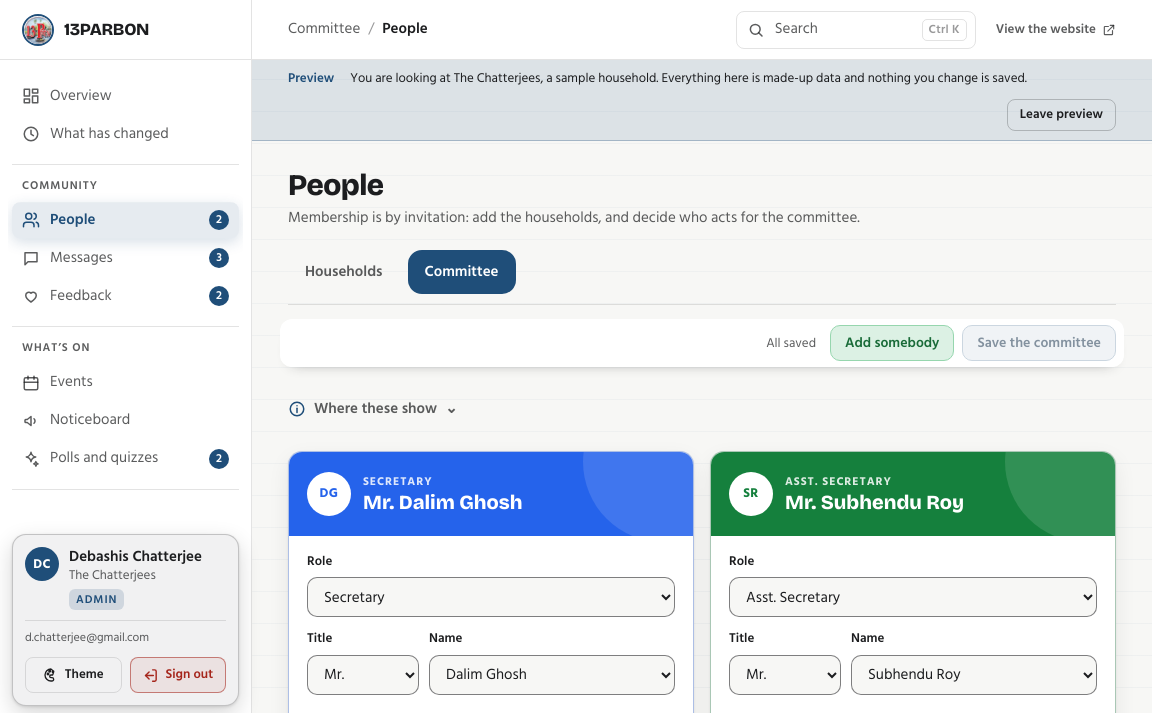
Test: the committee, on People › offers the roles and the households’ grown-ups to choose from
Select "Rina Sen" in the dropdown named "Name 1": (552, 675) [429, 655, 675, 695]
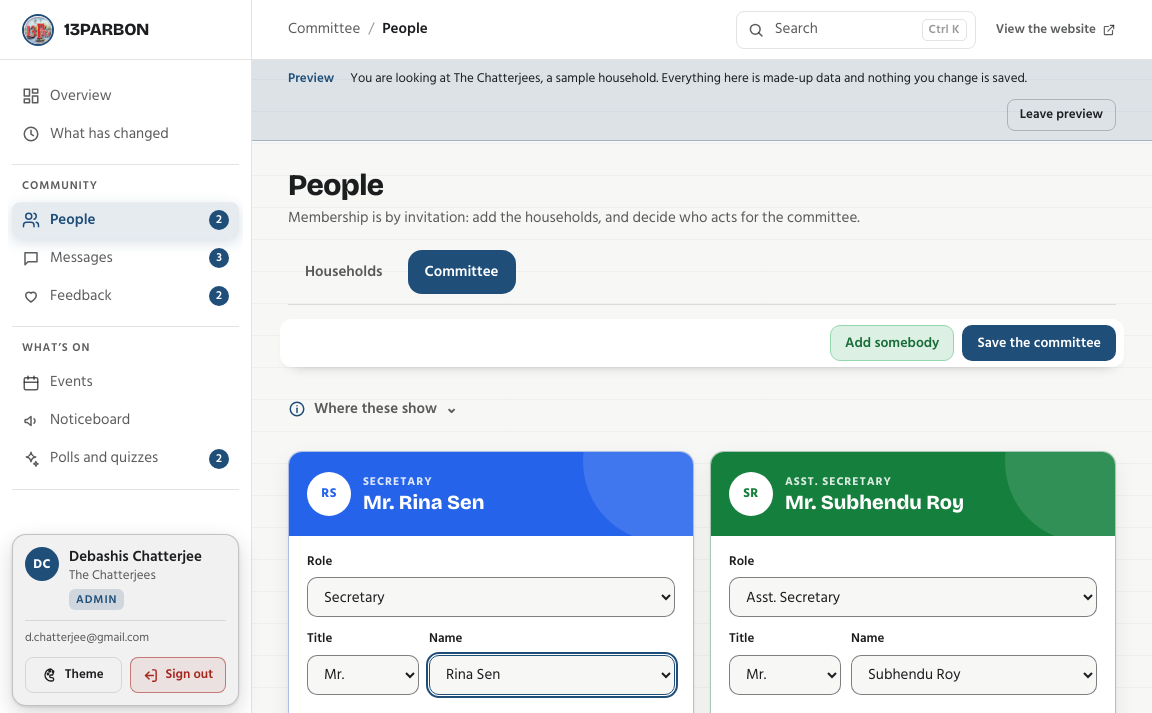
Select "Mrs." in the dropdown named "Title 1": (363, 675) [307, 655, 419, 695]
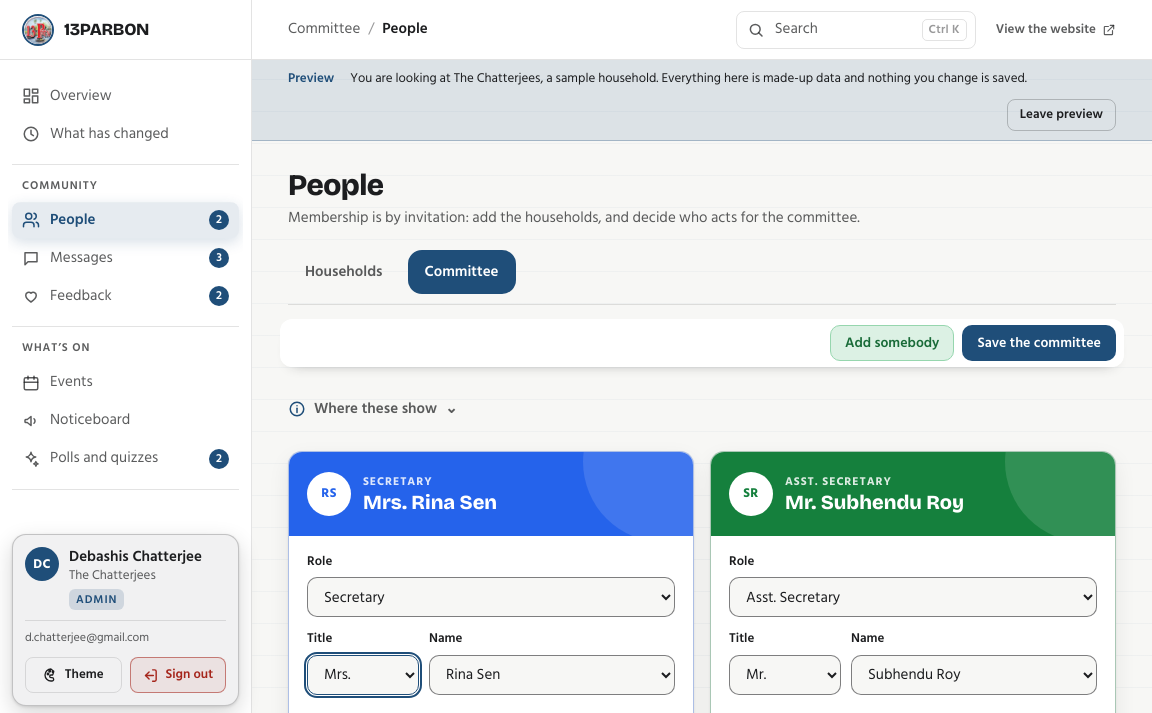
Now the text "Mrs. Rina Sen" is shown, box [363, 490, 497, 514]
